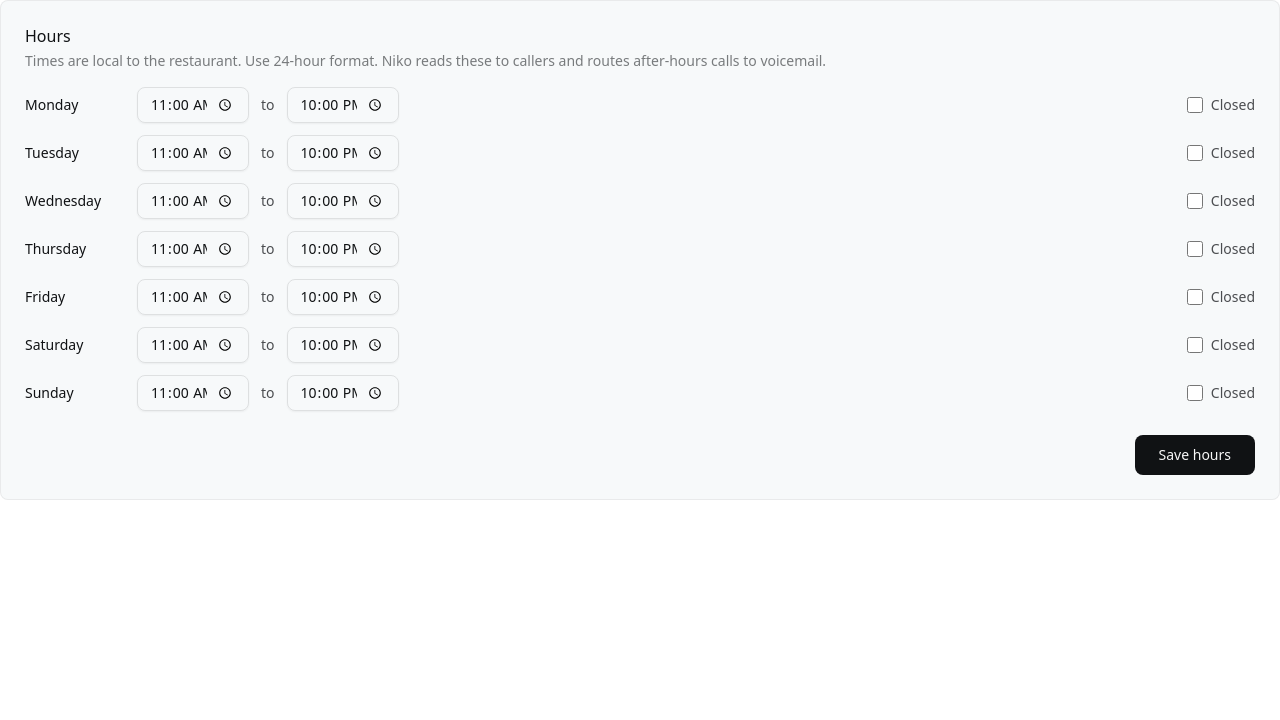
Scenario: HoursEditor › disables open/close inputs when the day is marked closed
Click the checkbox named "monday closed".
click(1195, 105)  # box x1=1187 y1=97 x2=1203 y2=113
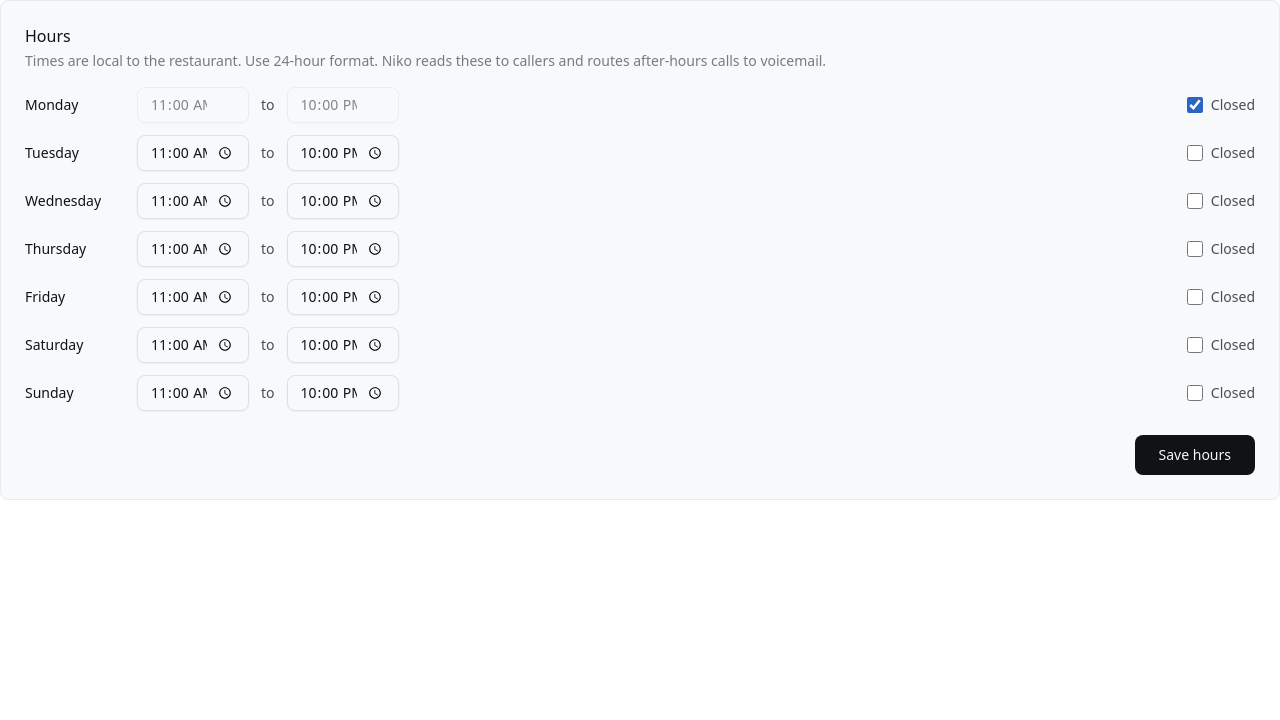
Expected: the 1st time field named "open time" is disabled, x1=137 y1=87 x2=249 y2=123
